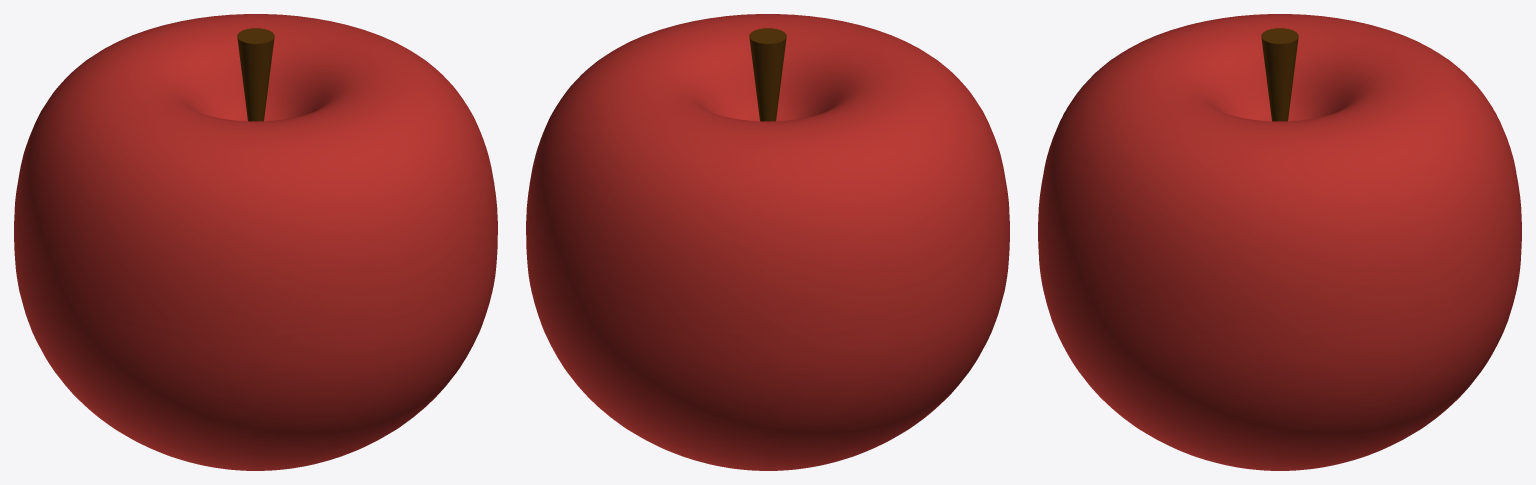
Rendered from apple.gltf.
3 views of the same model, side by side, from view 1: azimuth 30°, elevation 25°; view 2: azimuth 150°, elevation 25°; view 3: azimuth 270°, elevation 25° (orthographic).
Visible parts, largest first — view 1: apple; view 2: apple; view 3: apple.
Boxes of the visible parts, bbox=[...] form: apple: bbox=[14, 14, 497, 470]; apple: bbox=[526, 14, 1009, 470]; apple: bbox=[1038, 14, 1521, 470].
Bounding box in the file's own units: 0.9512 × 0.9001 × 0.9517.
